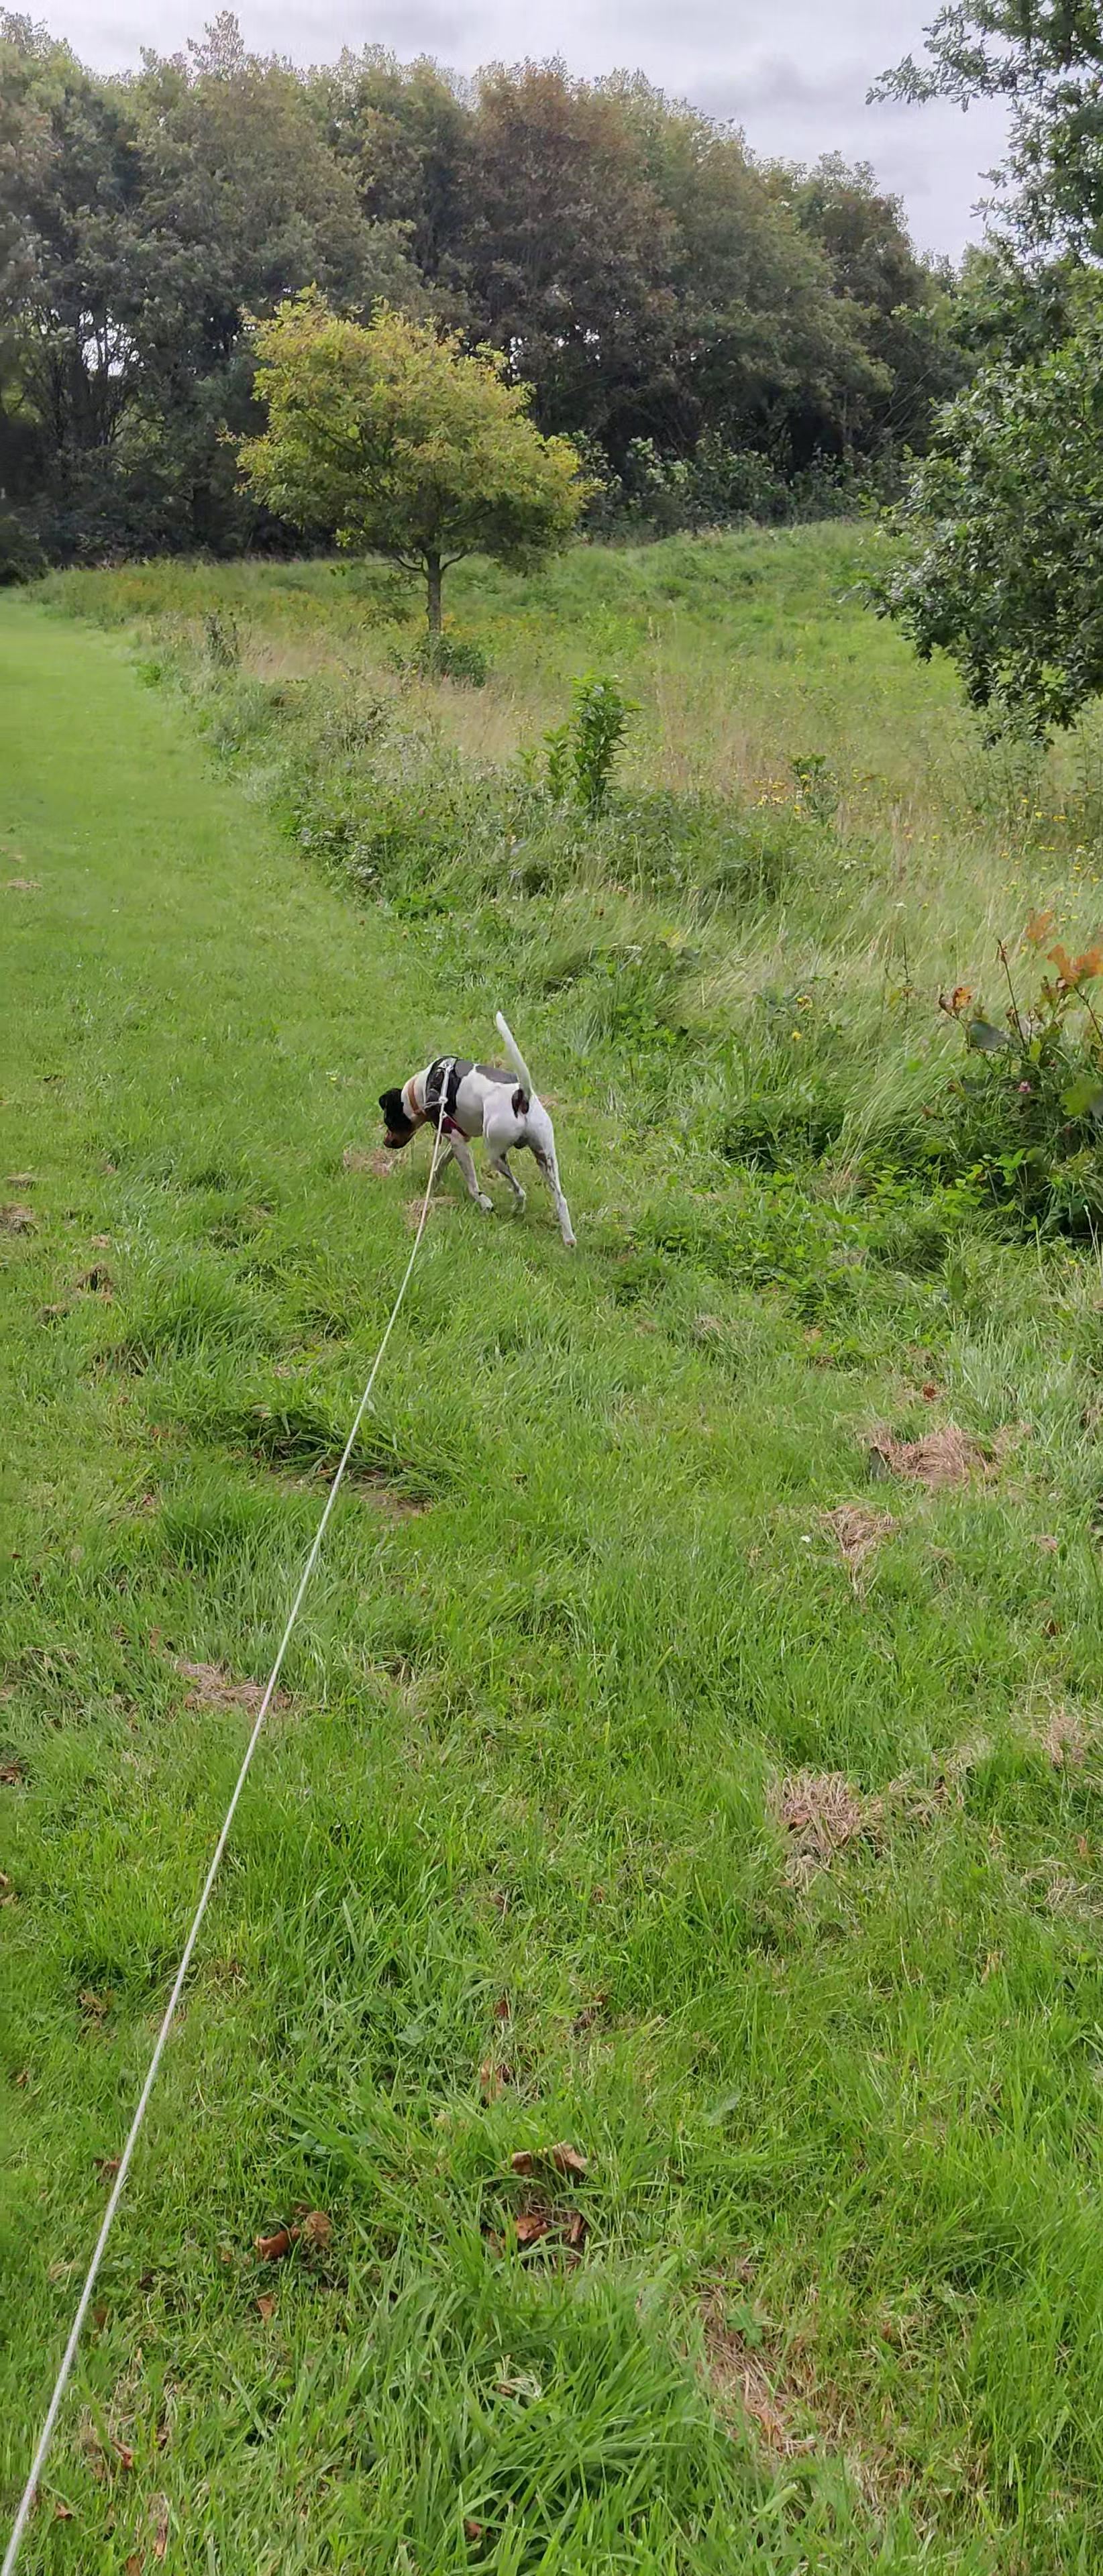Dog: (358, 997, 590, 1253)
